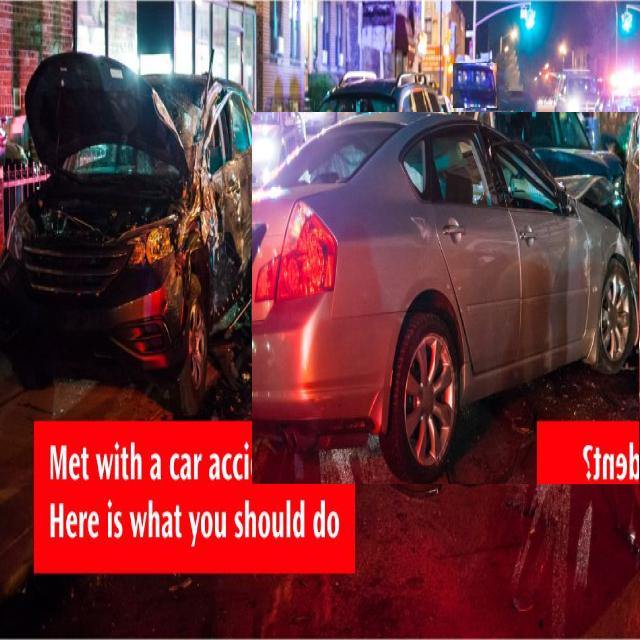accident: (252, 112, 640, 484), (0, 51, 269, 415)
car: (269, 76, 439, 184), (588, 90, 640, 187), (555, 68, 598, 134), (454, 63, 497, 108)
